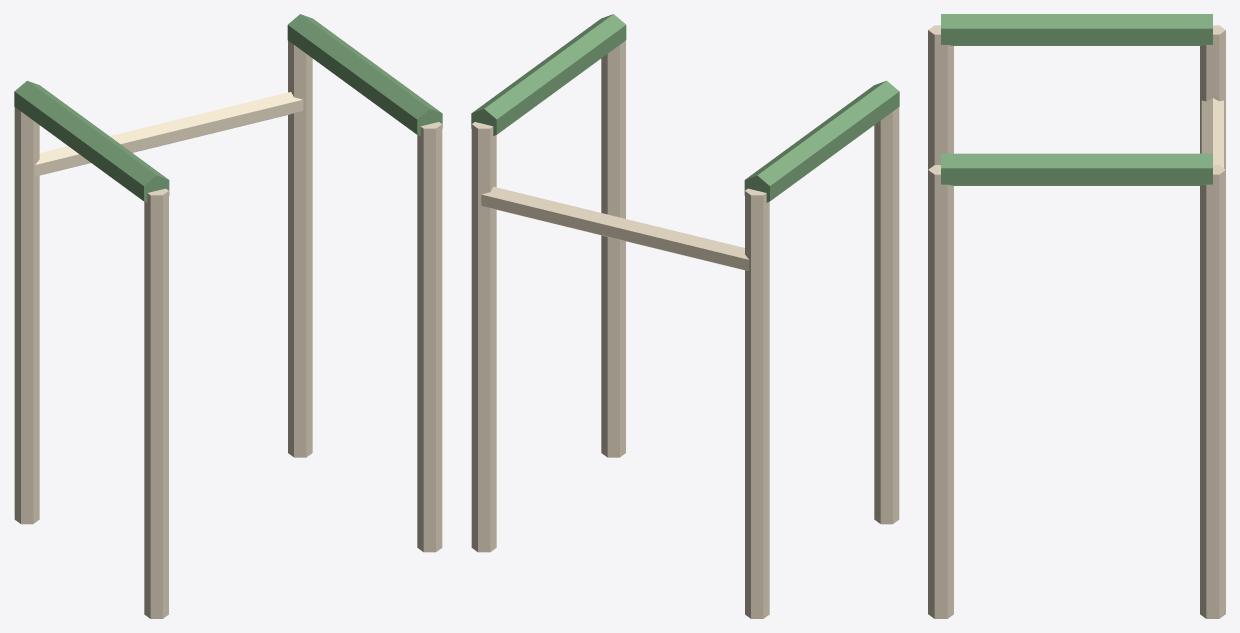
3 renders of one model, left to right at view 1: azimuth 30°, elevation 25°; view 2: azimuth 150°, elevation 25°; view 3: azimuth 270°, elevation 25°, orthographic. The views are drawn at different scales.
Visible parts, largest first — view 1: Leg.002, Leg, Leg.001, Leg.003, Hand grip, Hand grip.001, Front rail; view 2: Leg.003, Leg.001, Leg, Leg.002, Front rail, Hand grip, Hand grip.001; view 3: Leg.002, Leg.003, Hand grip.001, Hand grip, Leg, Leg.001, Front rail.
Part boxes in pixels (x1=…): Leg.002: x1=417, y1=122, x2=442, y2=552; Leg: x1=144, y1=188, x2=168, y2=618; Leg.001: x1=14, y1=107, x2=39, y2=524; Leg.003: x1=288, y1=40, x2=312, y2=457; Hand grip: x1=14, y1=80, x2=169, y2=202; Hand grip.001: x1=287, y1=14, x2=442, y2=135; Front rail: x1=35, y1=92, x2=303, y2=176; Leg.003: x1=471, y1=122, x2=496, y2=552; Leg.001: x1=745, y1=188, x2=769, y2=618; Leg: x1=874, y1=107, x2=899, y2=524; Leg.002: x1=601, y1=40, x2=625, y2=457; Front rail: x1=481, y1=186, x2=749, y2=270; Hand grip: x1=744, y1=80, x2=899, y2=202; Hand grip.001: x1=471, y1=14, x2=626, y2=135; Leg.002: x1=928, y1=165, x2=953, y2=618; Leg.003: x1=1200, y1=165, x2=1225, y2=618; Hand grip.001: x1=941, y1=153, x2=1212, y2=185; Hand grip: x1=941, y1=14, x2=1212, y2=45; Leg: x1=928, y1=25, x2=953, y2=169; Leg.001: x1=1200, y1=25, x2=1225, y2=169; Front rail: x1=1201, y1=98, x2=1223, y2=167.
Bounding box in the file's own units: 61.2 × 86 × 50.4.
